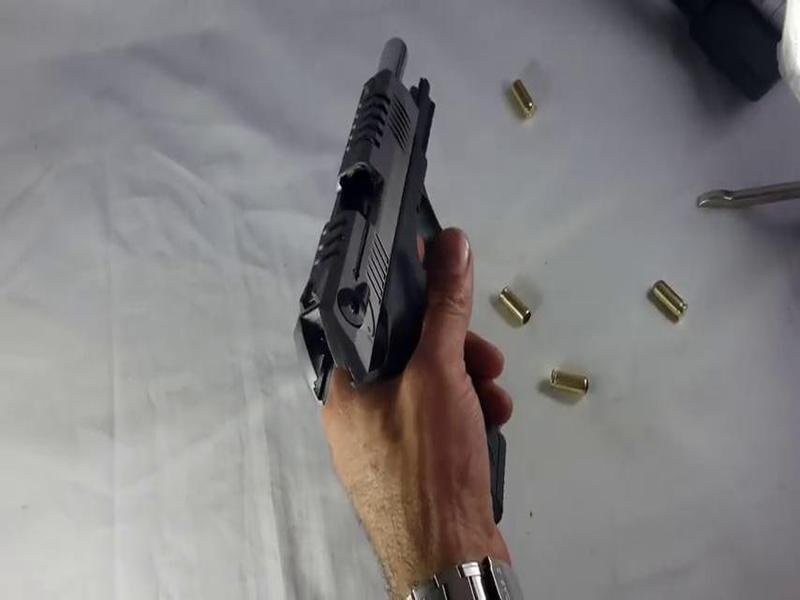Pistola: (231, 16, 561, 525)
